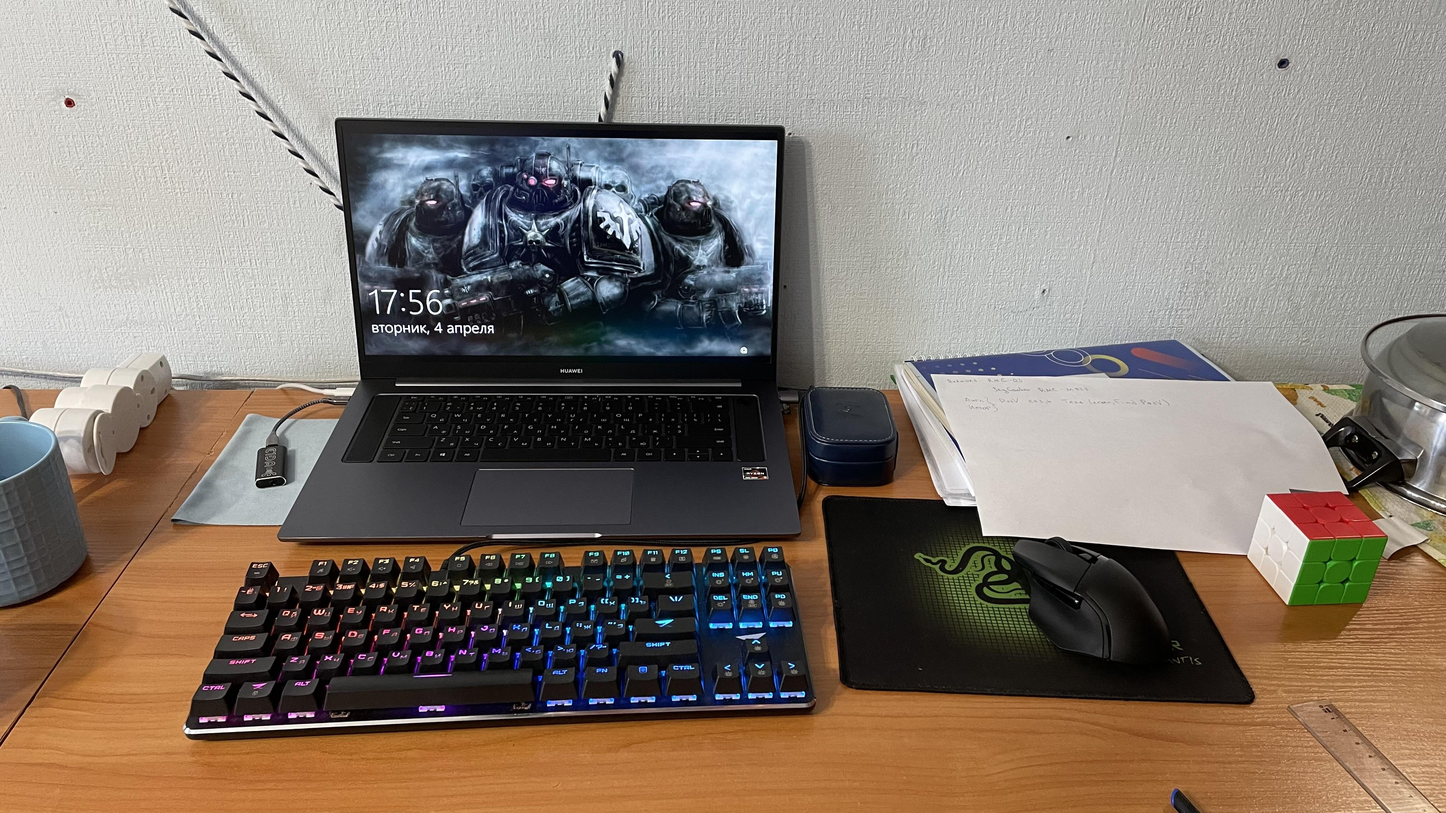monitor: (334, 115, 793, 405)
